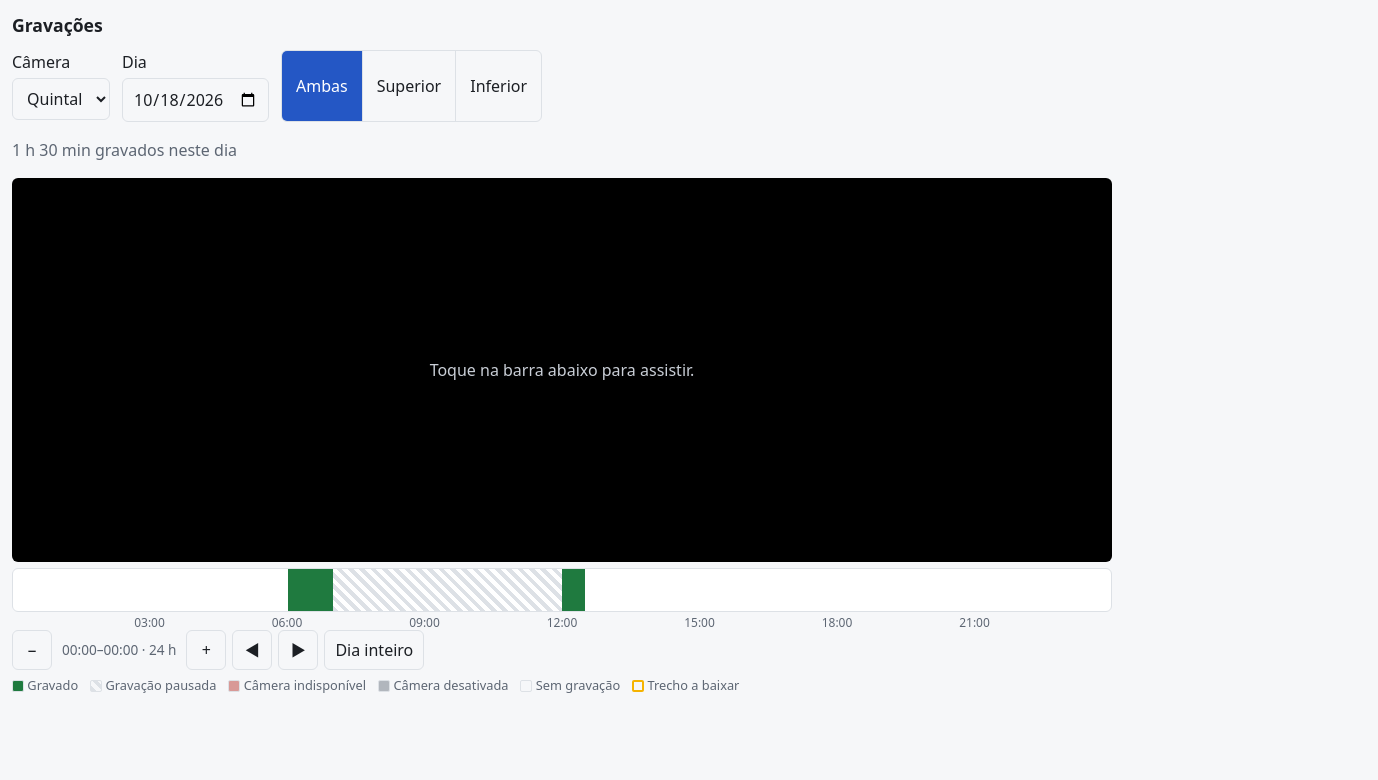
Test case: RecordingsPage › pinça com dois dedos aproxima a barra
The image size is (1378, 780).
Expected: the text "1 h 30 min gravados neste dia" is shown, top-left (12, 139), bottom-right (237, 161)
Press the mouse on the slider named "Linha do tempo das gravações" at (562, 590), box top-left (12, 568), bottom-right (1112, 612)
Press the mouse on the slider named "Linha do tempo das gravações" at (562, 590), box top-left (12, 568), bottom-right (1112, 612)
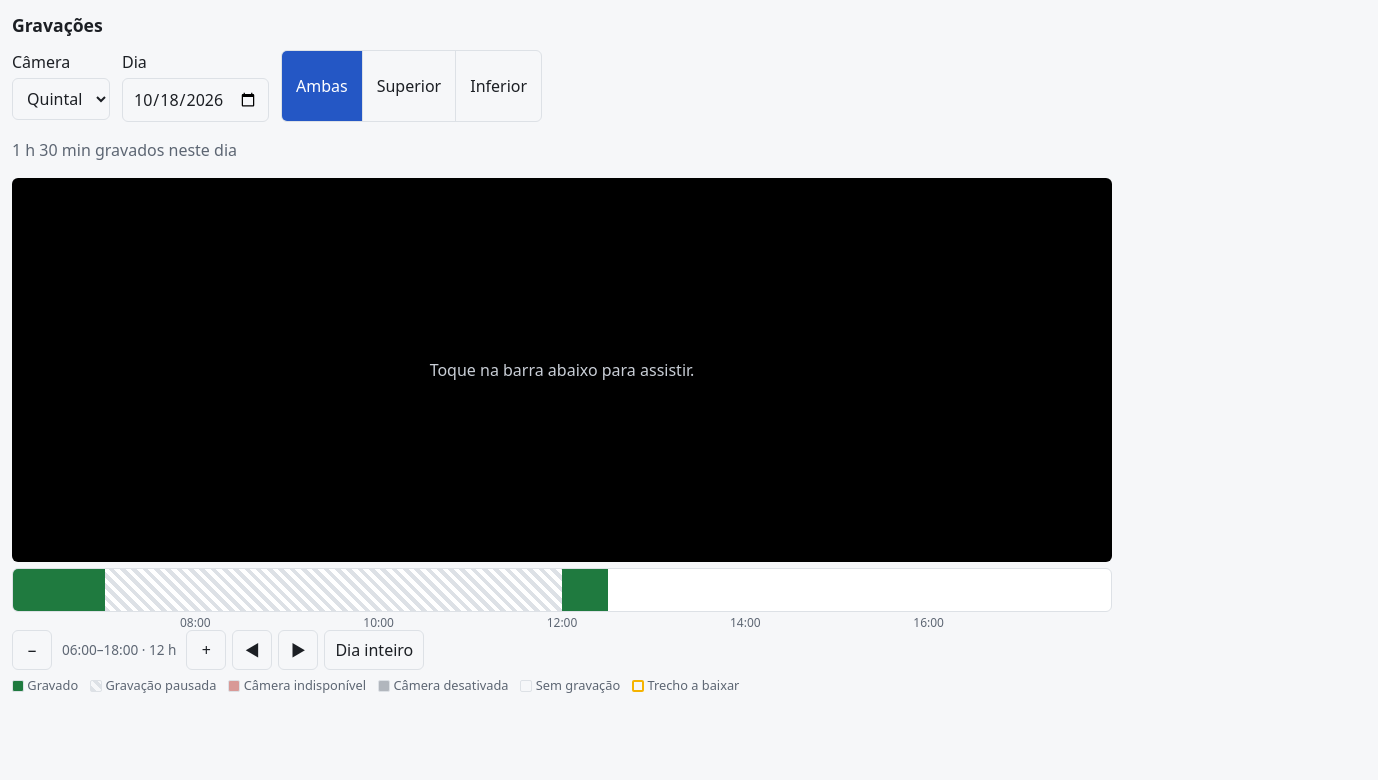
Expected: the text "06:00–18:00 · 12 h" is shown, top-left (58, 640), bottom-right (180, 661)
